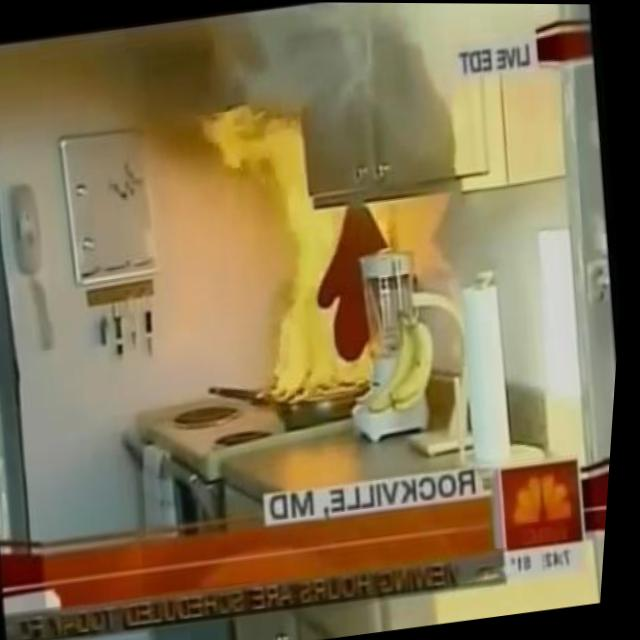fire: (192, 97, 403, 410)
